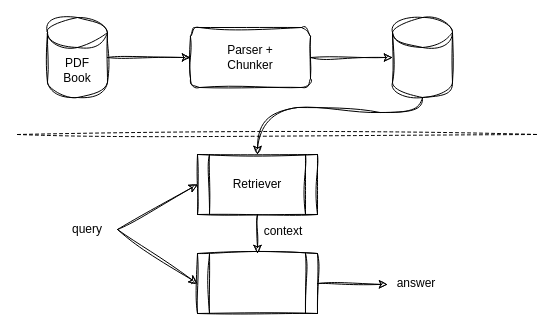
The diagram is 556 pixels wide and 331 high, and some of its shapes have lost their labels. The centre of each missing label's shape, as x and y in pixels:
LLM: (x=257, y=283)
Vector Store: (x=422, y=57)
